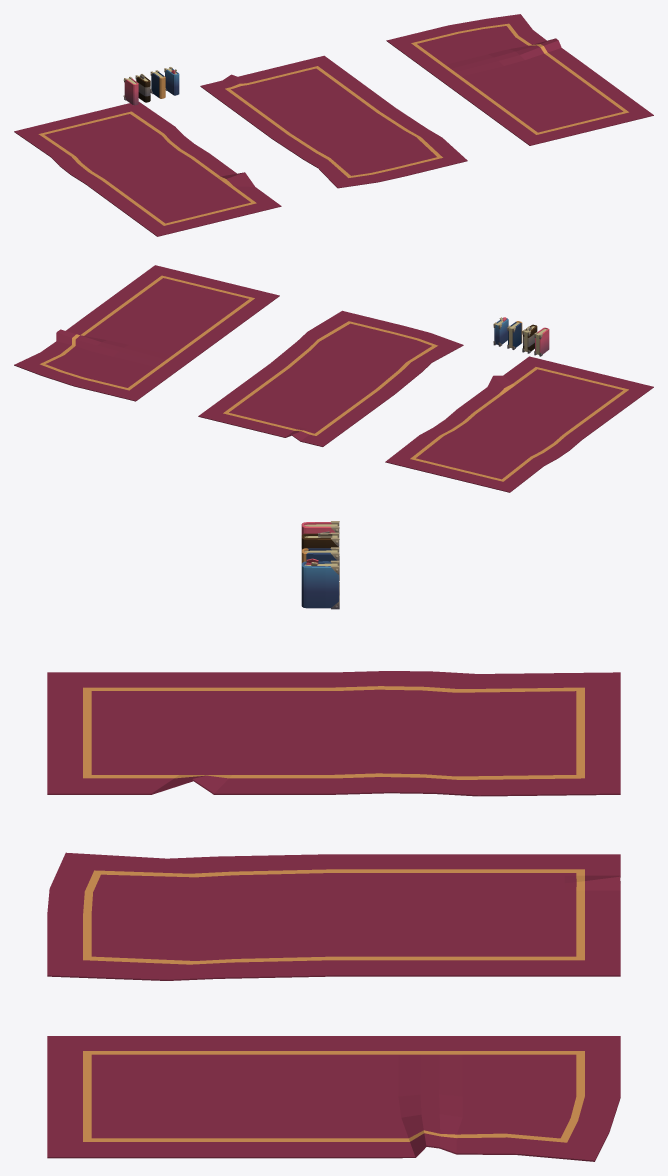
Rendered from decorations.fbx.
The picture shows the model from 3 angles, top to bottom: view 1: azimuth 30°, elevation 25°; view 2: azimuth 150°, elevation 25°; view 3: azimuth 270°, elevation 25°; orthographic projection. The views are drawn at different scales.
Parts seen in each view (by area): view 1: carpetA, carpetB, carpetC, bookC, bookD, bookA, bookB; view 2: carpetA, carpetB, carpetC, bookA, bookC, bookD; view 3: carpetB, carpetA, carpetC, bookD.
Part boxes in pixels (x1=…): carpetA: x1=14, y1=102, x2=281, y2=236; carpetB: x1=200, y1=55, x2=467, y2=188; carpetC: x1=386, y1=14, x2=653, y2=145; bookC: x1=150, y1=70, x2=165, y2=98; bookD: x1=164, y1=67, x2=179, y2=95; bookA: x1=123, y1=76, x2=138, y2=105; bookB: x1=135, y1=74, x2=150, y2=102; carpetA: x1=385, y1=356, x2=653, y2=492; carpetB: x1=198, y1=310, x2=463, y2=446; carpetC: x1=14, y1=265, x2=279, y2=401; bookA: x1=534, y1=327, x2=549, y2=356; bookC: x1=507, y1=321, x2=522, y2=349; bookD: x1=493, y1=317, x2=508, y2=346; carpetB: x1=47, y1=852, x2=620, y2=980; carpetA: x1=47, y1=671, x2=620, y2=796; carpetC: x1=47, y1=1036, x2=620, y2=1161; bookD: x1=301, y1=558, x2=339, y2=609.
Bounding box in the file's own units: 8.08 × 1.51 × 4.
Materials: 1 (1 with a texture image).
